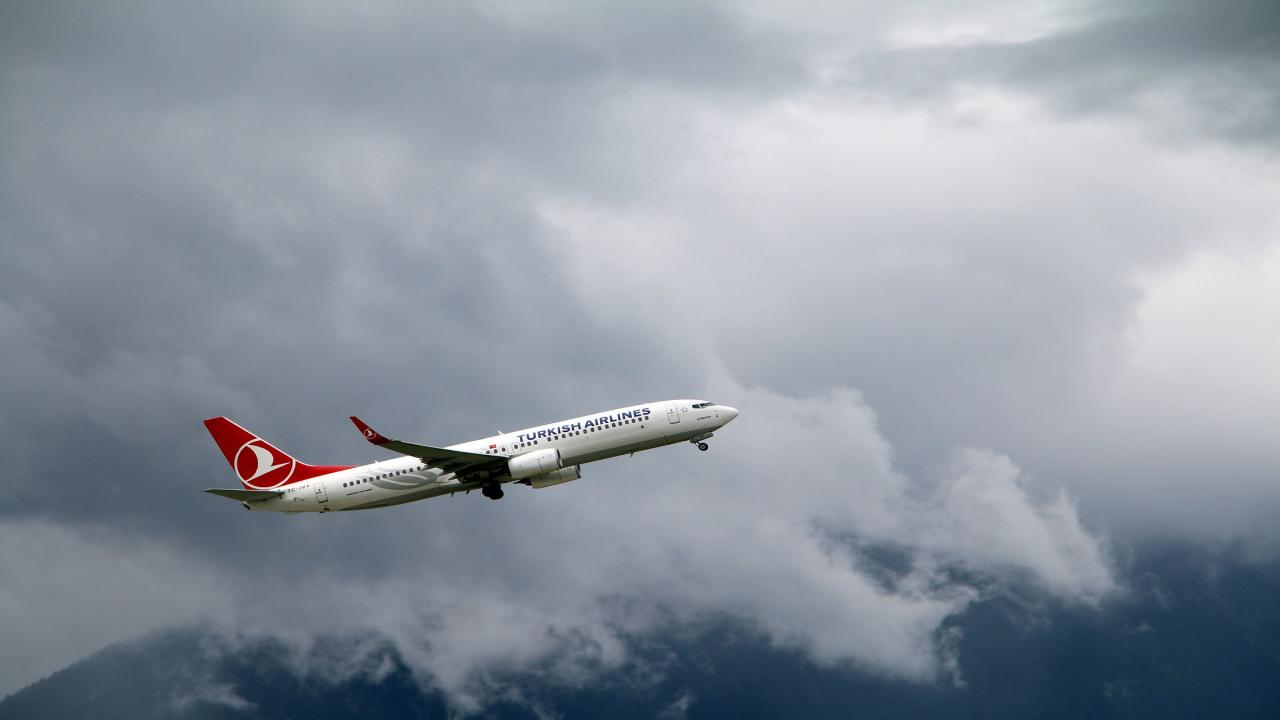Airplane: (187, 386, 750, 522)
